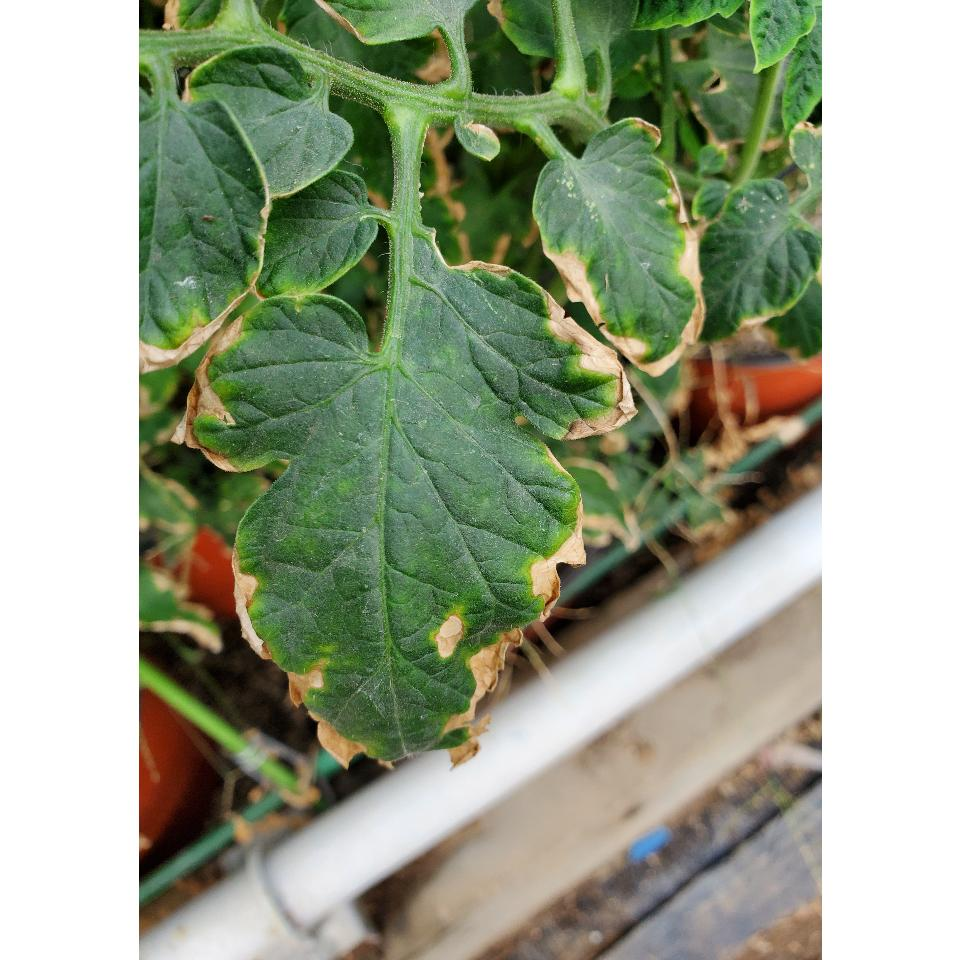tomato_bacterial_blight: (174, 222, 636, 775), (534, 118, 712, 376), (138, 84, 274, 380)
